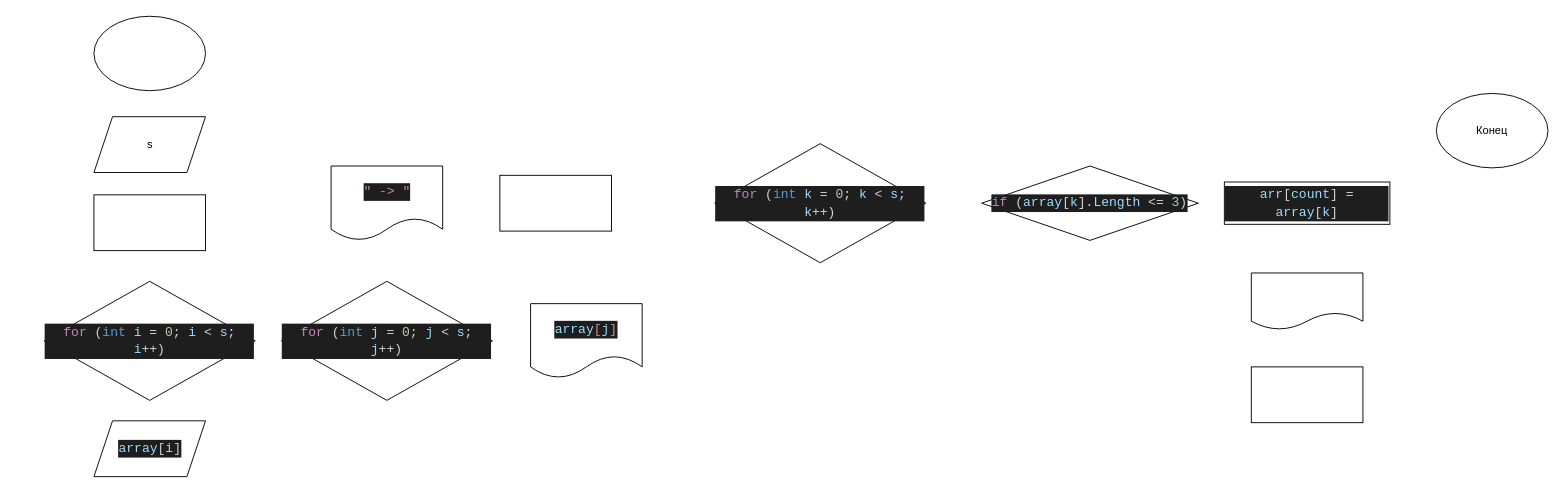
Image size: 1564x493. Some labels were removed from this diagram. The centre of each missing label's shape, as x and y in pixels:
"arr [ count ]" belongs at point (1306, 301).
"count ++" belongs at point (1306, 394).
"int count = 0" belongs at point (555, 202).
"string [] array string [] arr" belongs at point (149, 222).
"Начало" belongs at point (149, 53).
